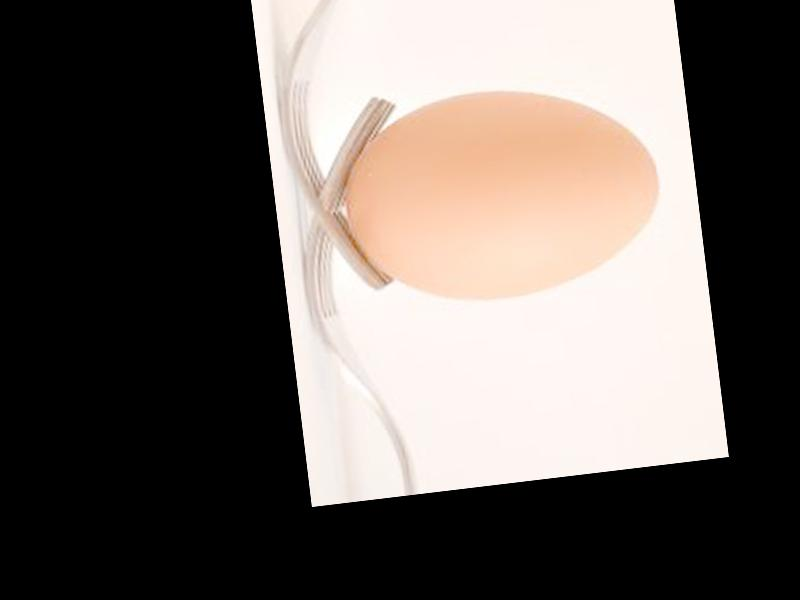Eggs: (334, 73, 669, 315)
